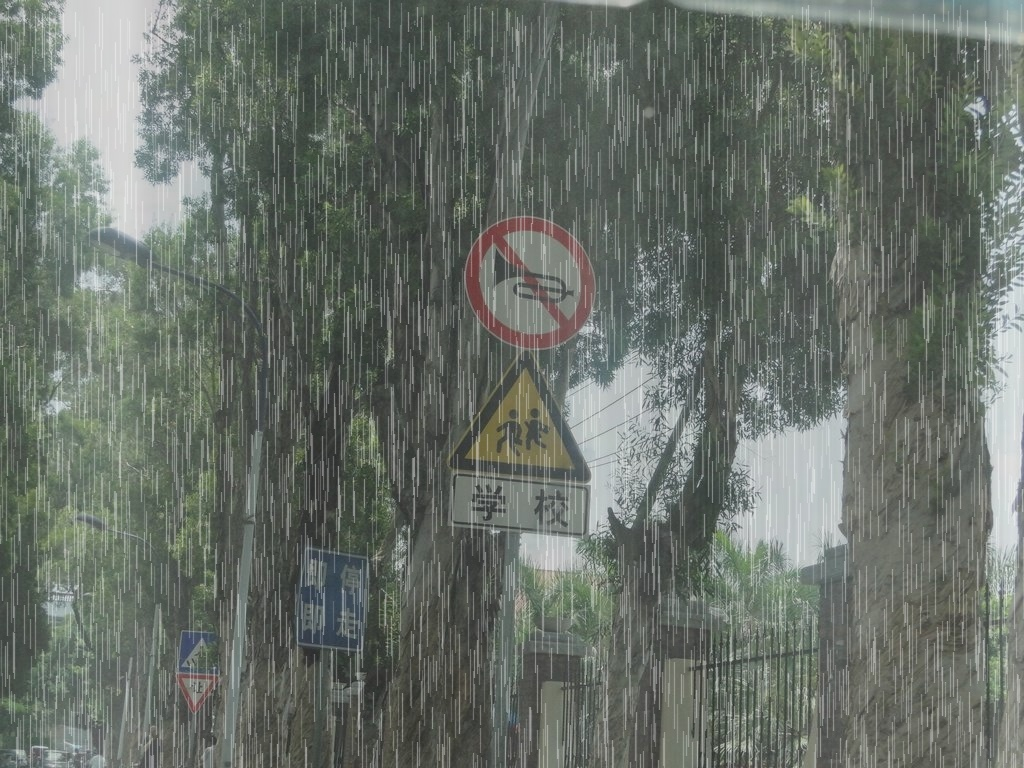Informative Signs: (176, 629, 221, 675)
Prohibitory Signs: (462, 212, 599, 352), (175, 674, 222, 715)
Warning Signs: (445, 348, 592, 485)
